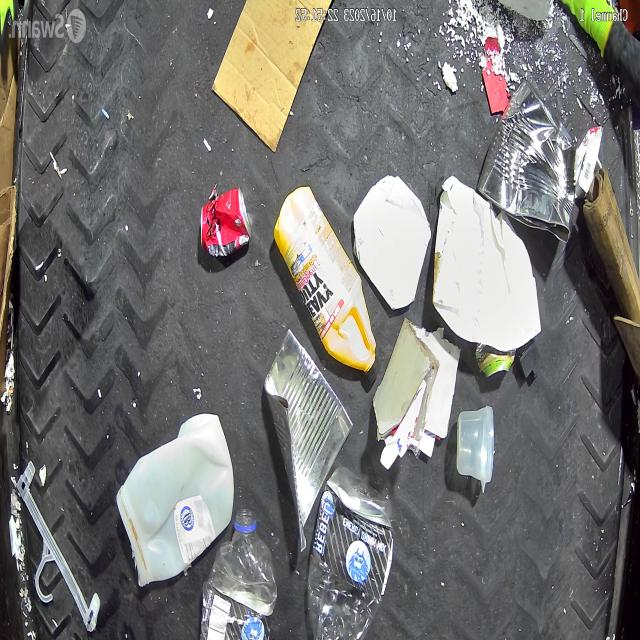can: (480, 80, 584, 248), (200, 186, 252, 257), (476, 346, 512, 376)
milk_jug: (116, 414, 234, 588)
non_white_jug: (277, 182, 381, 382)
plastic_bottle: (306, 464, 393, 640), (200, 508, 277, 640)
